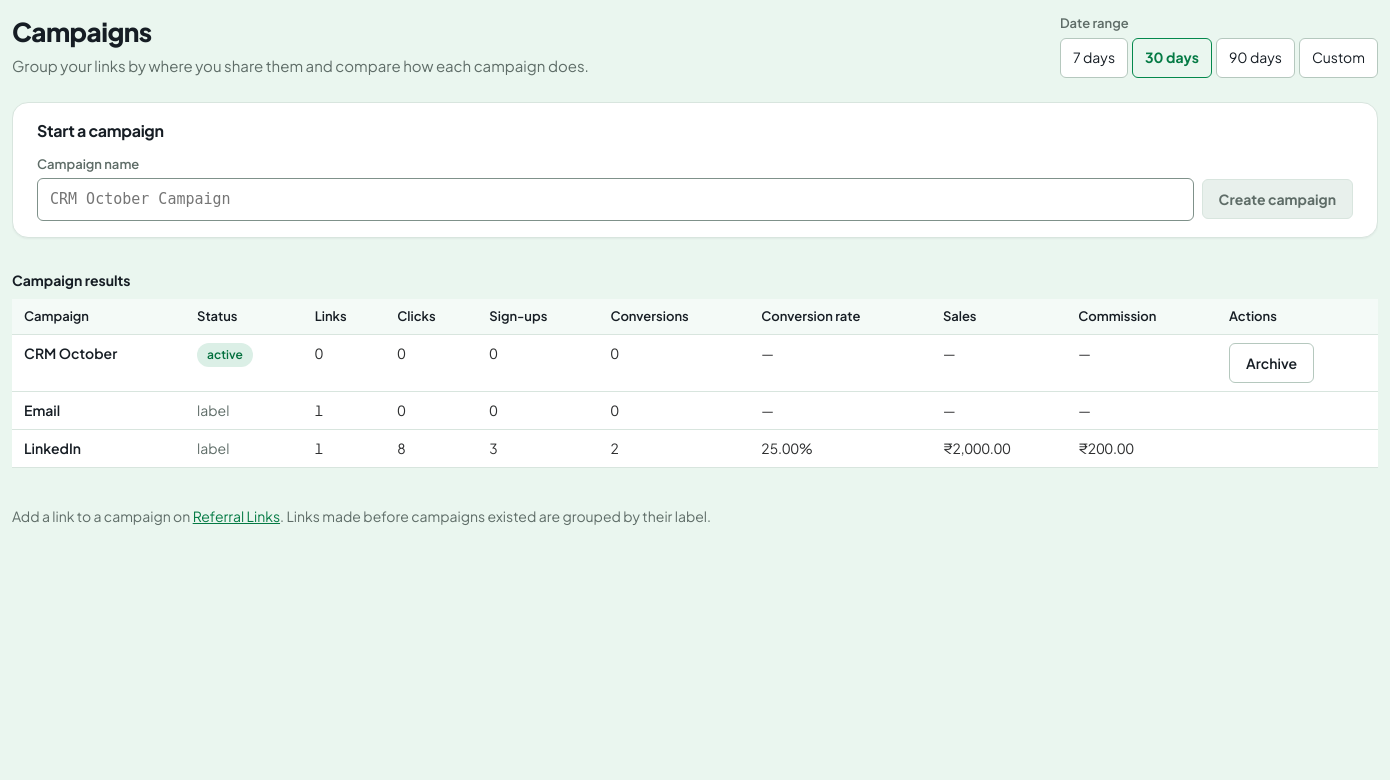
Test: codes, campaigns, materials and leads › campaigns: create, archive, and the server's rate and earnings per campaign
Expected: the row "CRM October active 0 0 0 0 — — — Archive" is shown, [12,334,1378,392]
Expected: the row "Email label 1 0 0 0 — — —" is shown, [12,392,1378,430]
Type "Diwali" into the field labelled "Campaign name" at (615, 199), box [37,178,1194,220]
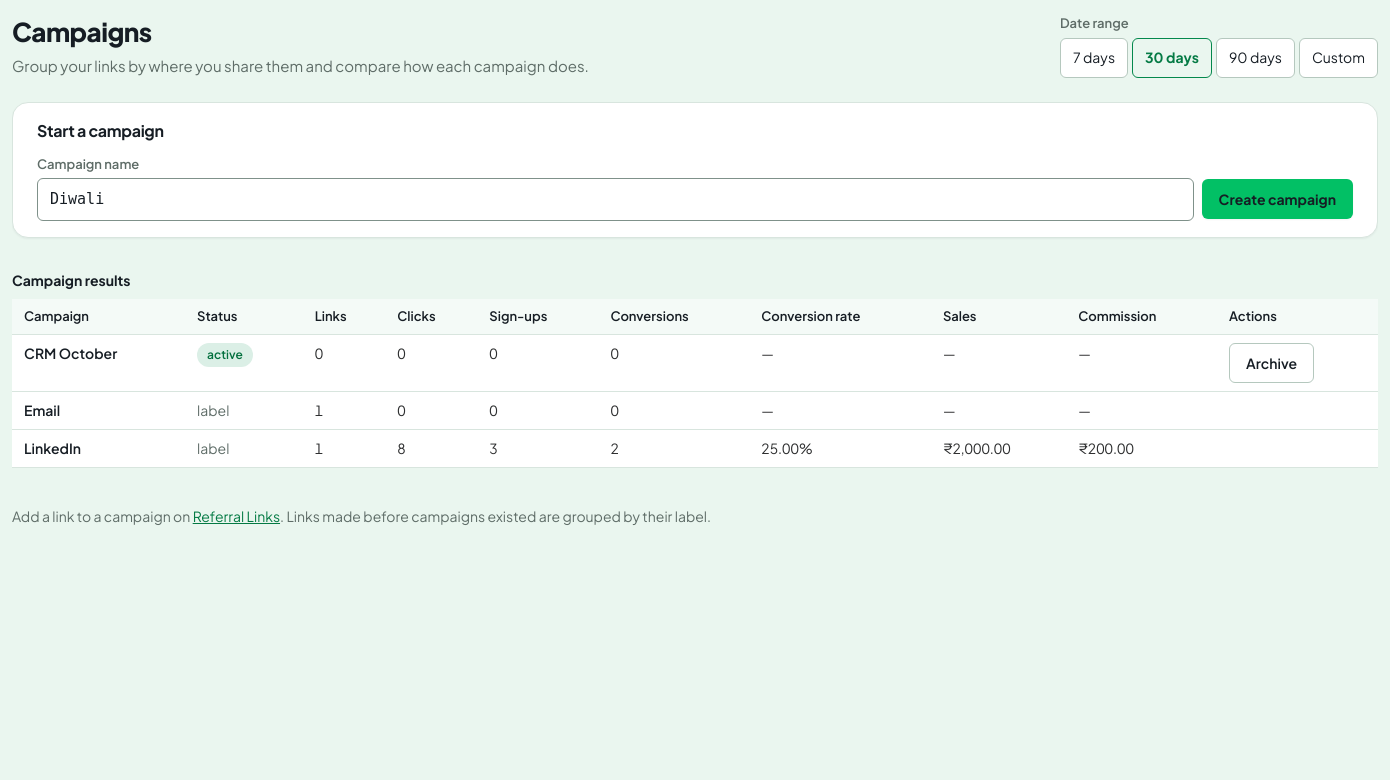
Click the button "Create campaign" at (1277, 199), box [1202,179,1353,219]
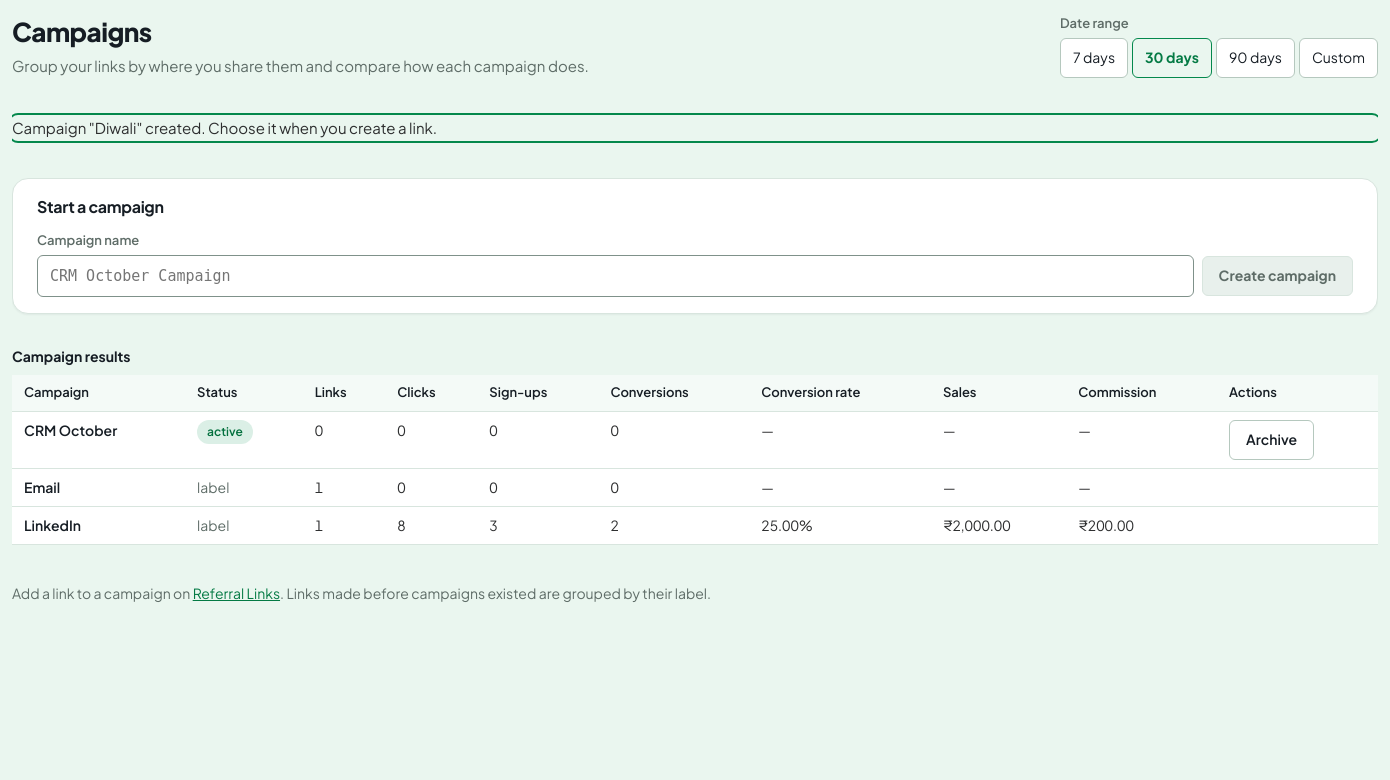
Result: the text "Campaign \"Diwali\" created. Choose it when you create a link." is shown at [12,118,437,136]
Click the button "Archive" at (1272, 440), box [1229,420,1314,460]
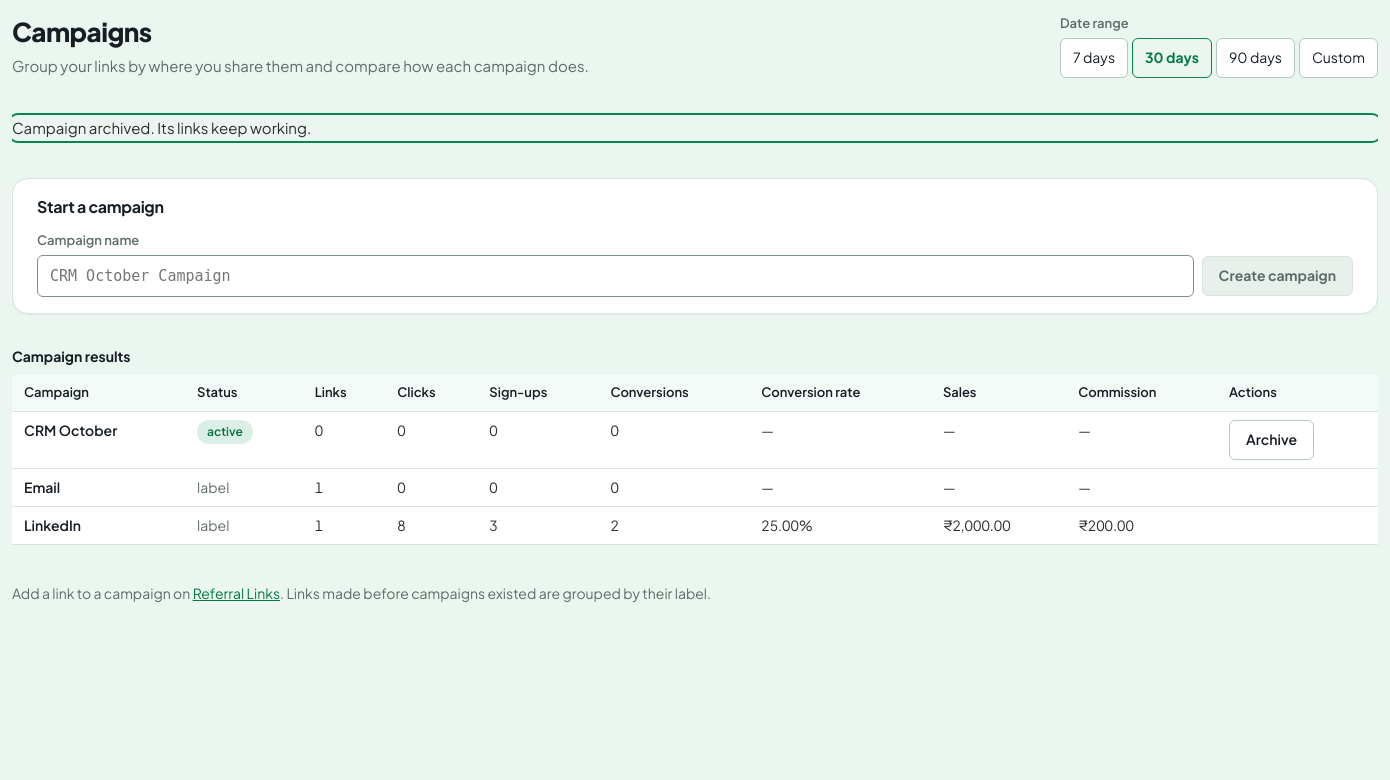
Result: the text "Campaign archived. Its links keep working." is shown at [12,118,311,136]
